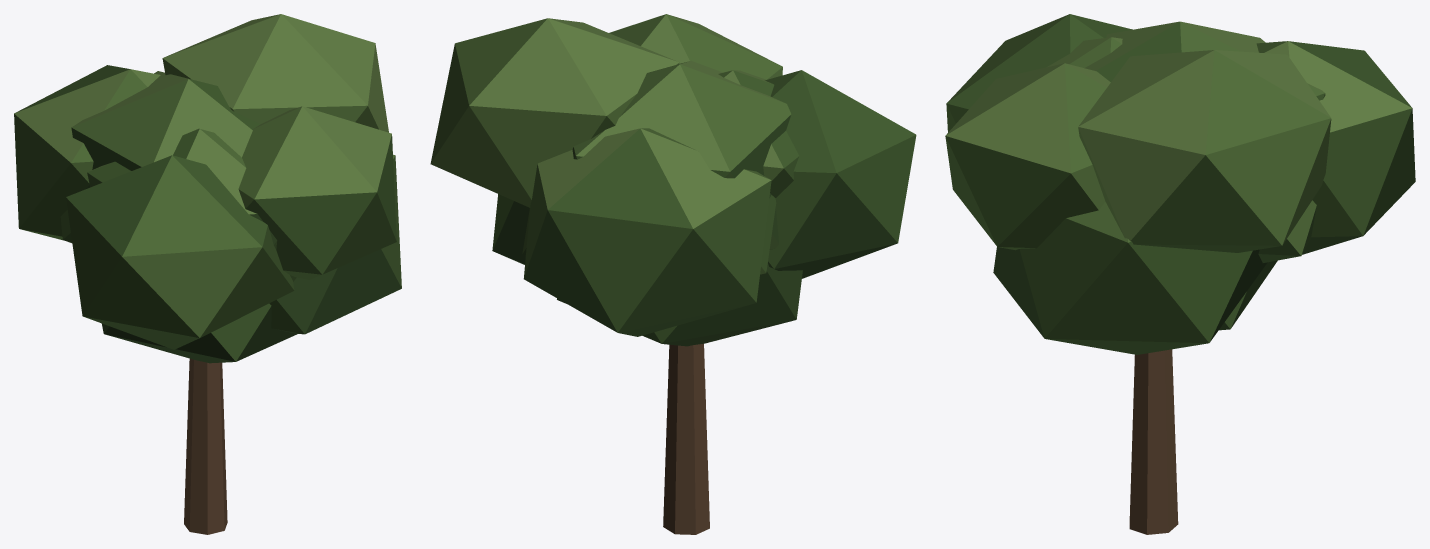
File: lwf_tree_oak_v1.glb
3 renders of one model, left to right at view 1: azimuth 30°, elevation 25°; view 2: azimuth 150°, elevation 25°; view 3: azimuth 270°, elevation 25°, orthographic. The views are drawn at different scales.
Visible parts, largest first — view 1: Crown, Trunk; view 2: Crown, Trunk; view 3: Crown, Trunk.
Boxes of the visible parts, x1,y1,x2,y2 form: Crown: [14, 14, 401, 363]; Trunk: [184, 358, 227, 534]; Crown: [430, 14, 916, 346]; Trunk: [663, 343, 709, 534]; Crown: [945, 14, 1415, 354]; Trunk: [1129, 349, 1178, 534].
Size of the model in its own units: 8.16 by 10.33 by 8.28.
Materials: 1 (1 with a texture image).
